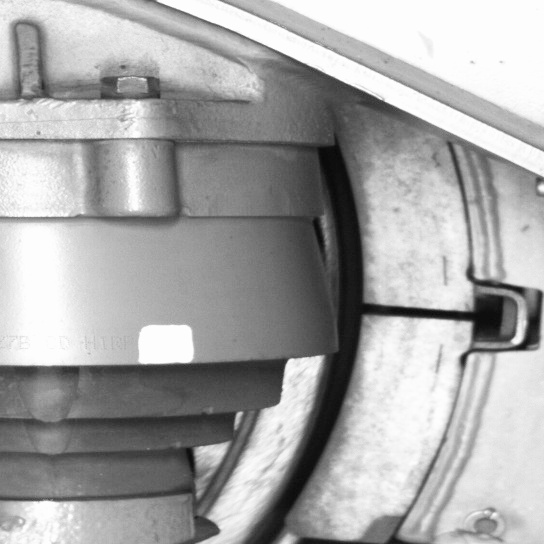KnifeSwitch: (233, 143, 490, 542)
